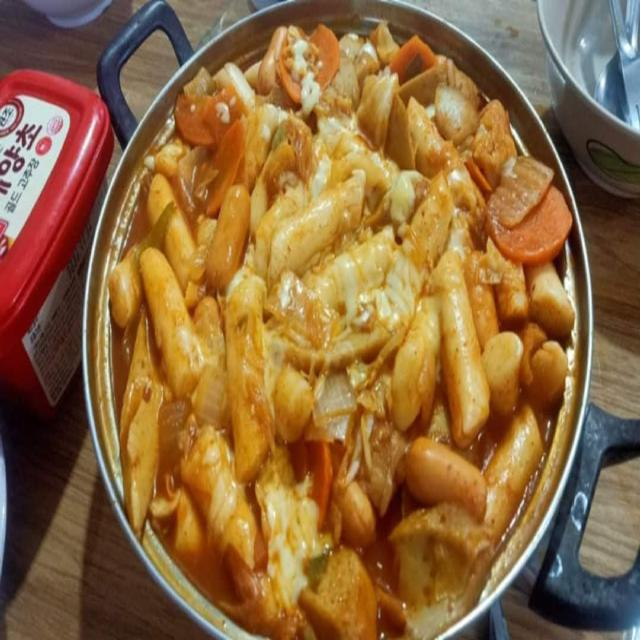-: (91, 0, 593, 640)
carp: (265, 137, 519, 427), (120, 246, 208, 388), (191, 422, 261, 578), (139, 162, 212, 293), (481, 397, 538, 528), (106, 230, 166, 326)
meat: (406, 437, 494, 516), (207, 182, 253, 281), (331, 473, 382, 545), (252, 26, 288, 96)
vegetable: (96, 306, 176, 536), (492, 141, 578, 264), (172, 83, 240, 206), (278, 30, 345, 111), (391, 24, 432, 91)
